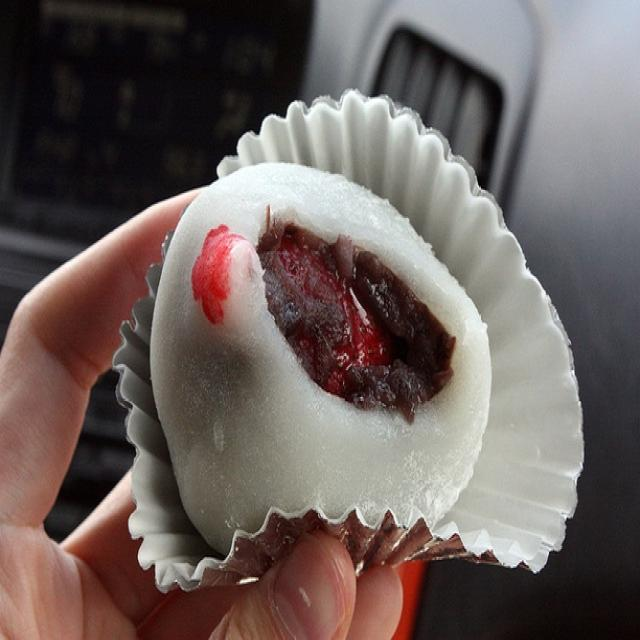蛋糕甜品: (112, 63, 590, 610)
